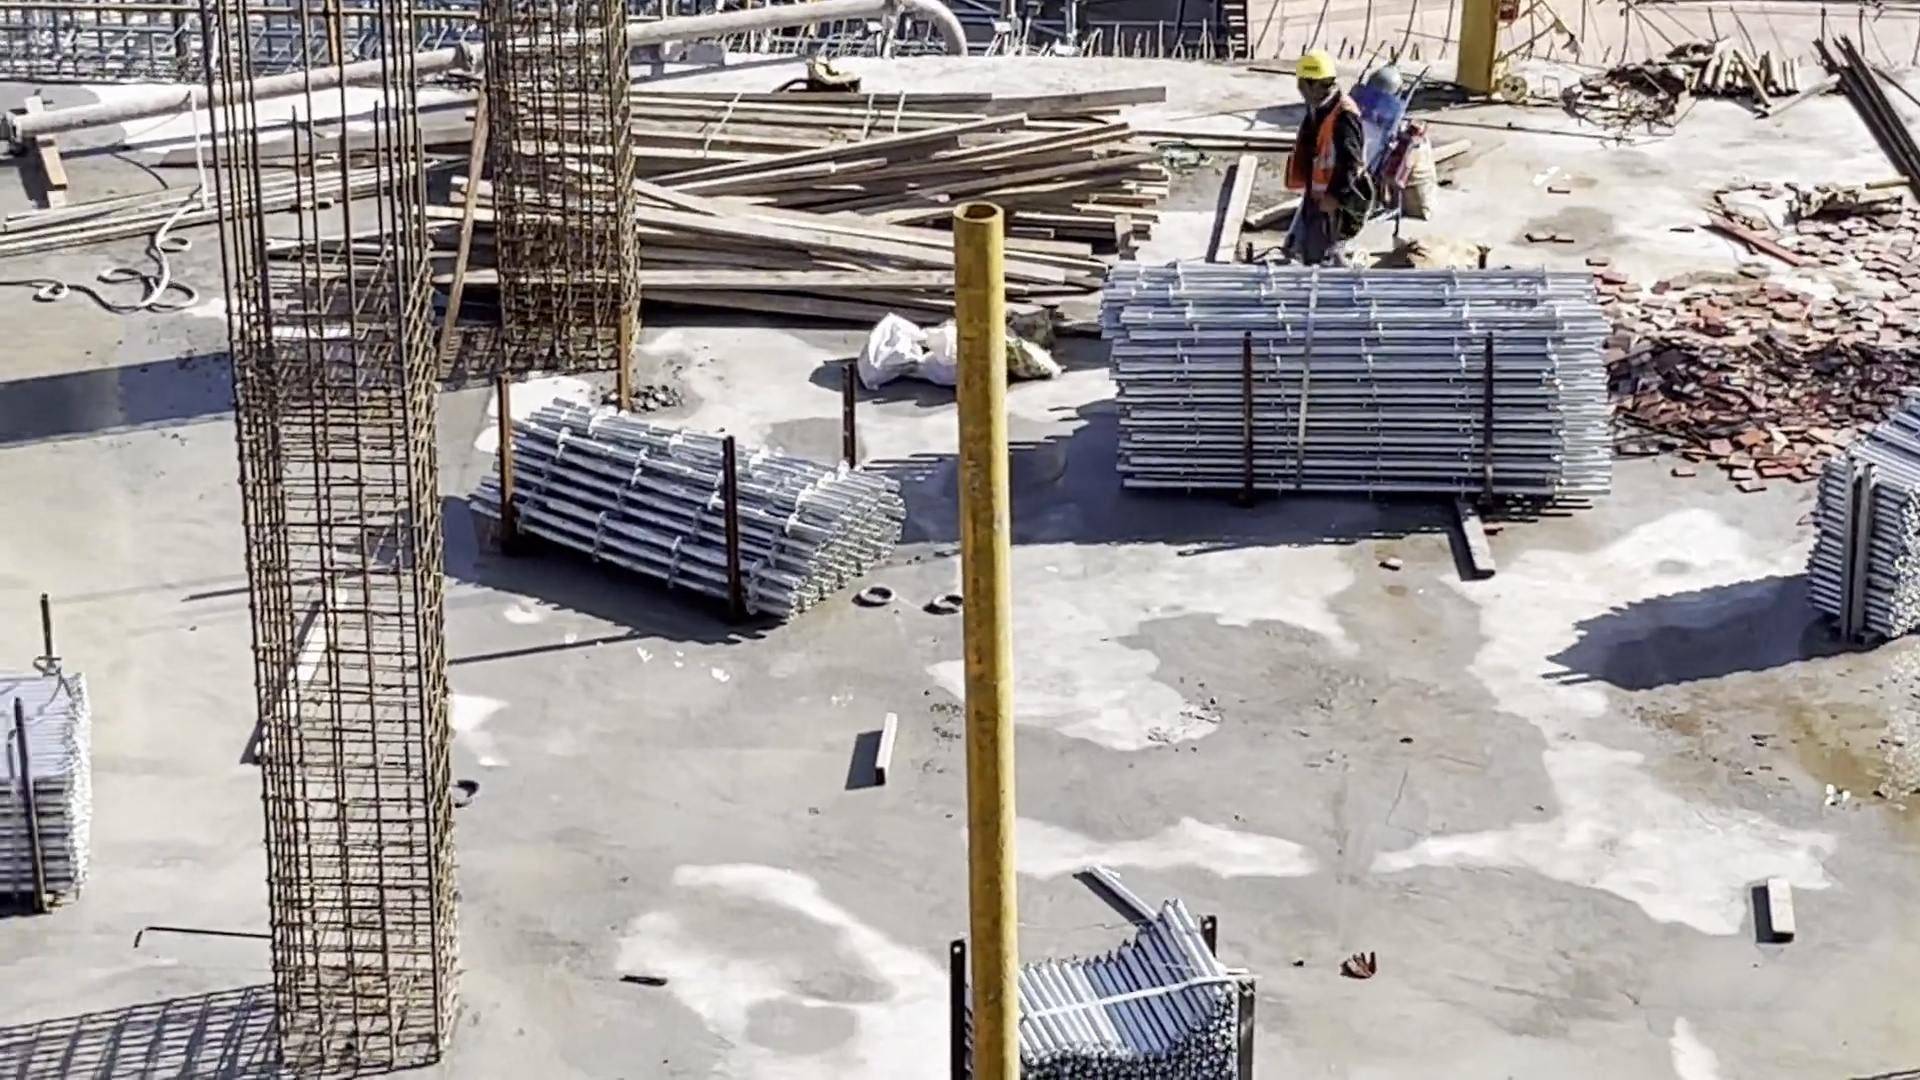helmet: (1290, 43, 1336, 78)
person: (1273, 38, 1375, 277)
rebar: (1777, 37, 1920, 234)
scaffold: (1107, 255, 1612, 523), (468, 405, 915, 642), (965, 894, 1253, 1080), (1801, 384, 1920, 647), (1, 656, 101, 927)
vest: (1295, 102, 1360, 206)
wood: (627, 100, 1157, 346)
